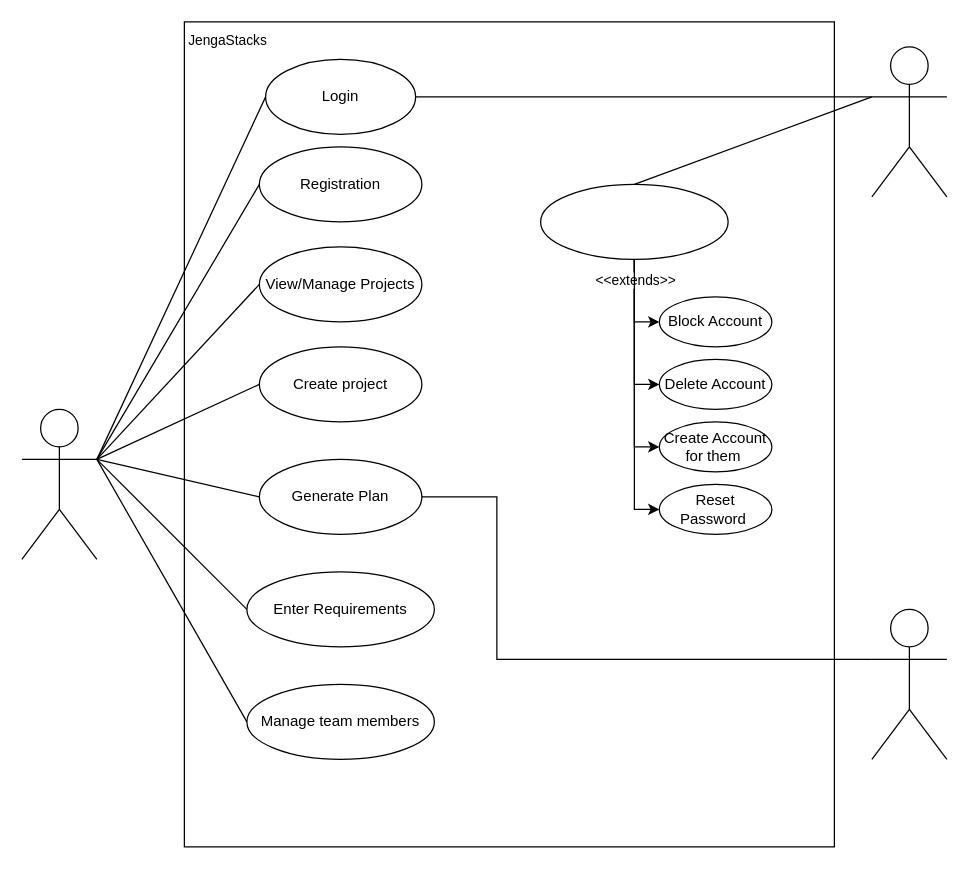
Image size: 969x869. Some labels were removed from this diagram. Here are the shapes that lost their labels. From the top down, the box of each, then its label:
(871, 46, 947, 197): Admin
(539, 183, 728, 259): Manage users
(21, 408, 97, 559): User
(871, 608, 947, 759): LLM
